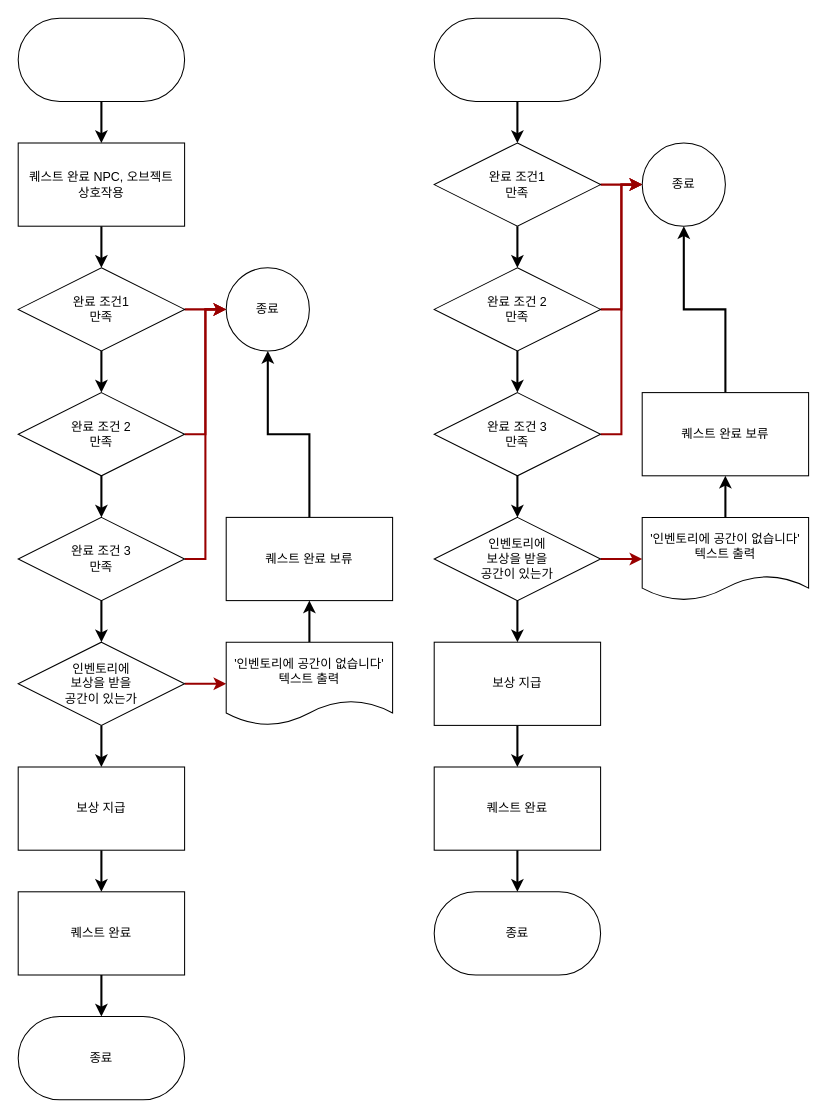
This 827x1118 diagram has some shape labels left out. The centre of each missing label's shape, as x and y in pixels:
수동 퀘스트 완료 시작: the point at 101,59
자동 퀘스트 완료 시작: the point at 517,59
